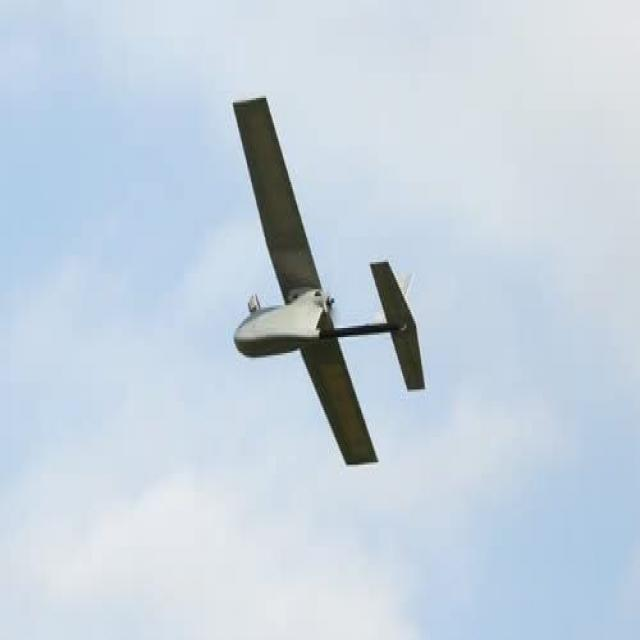UAV: (192, 95, 454, 432)
